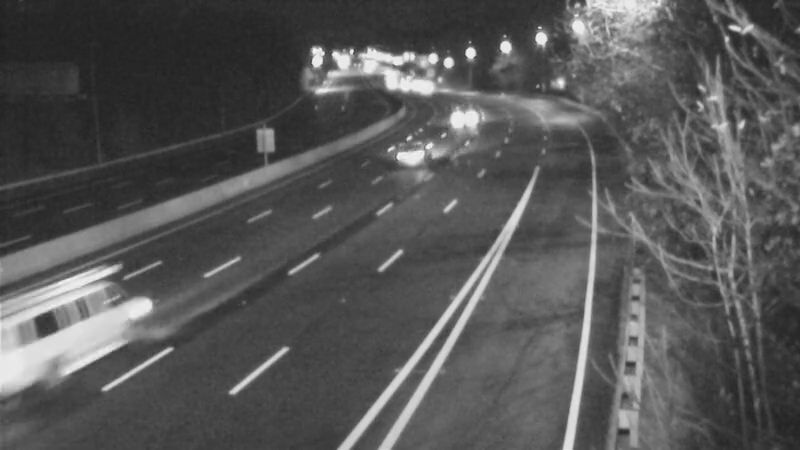vehicle: (19, 278, 129, 388), (370, 117, 450, 197), (443, 96, 493, 146)
